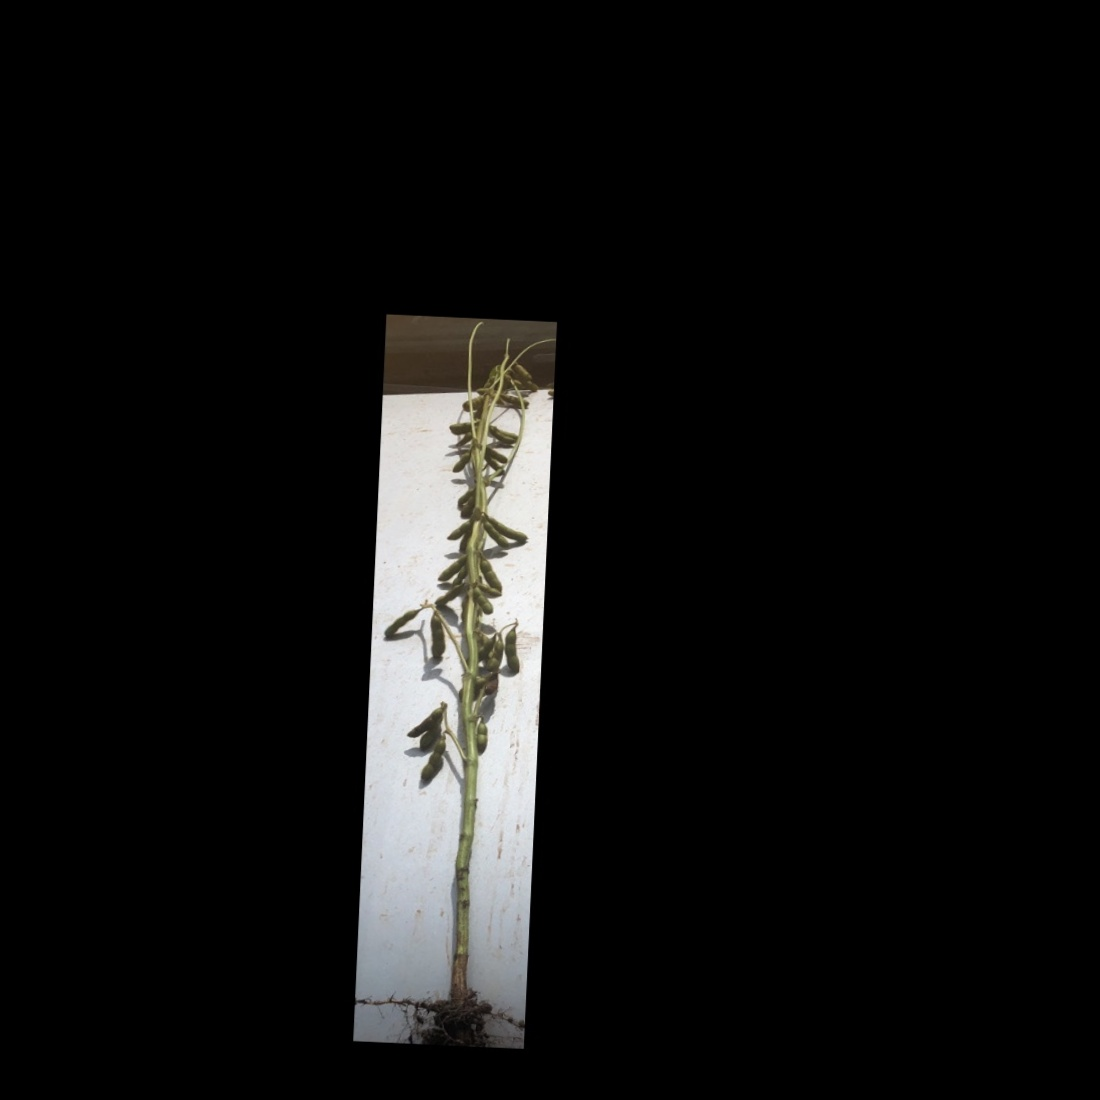pod: (383, 606, 425, 640), (420, 735, 444, 785), (502, 628, 526, 676), (428, 610, 448, 659), (434, 583, 466, 608), (450, 449, 474, 476), (471, 589, 495, 617), (474, 720, 490, 753), (515, 361, 535, 380), (454, 488, 475, 506), (452, 566, 468, 588)
soy: (364, 327, 555, 1026)
